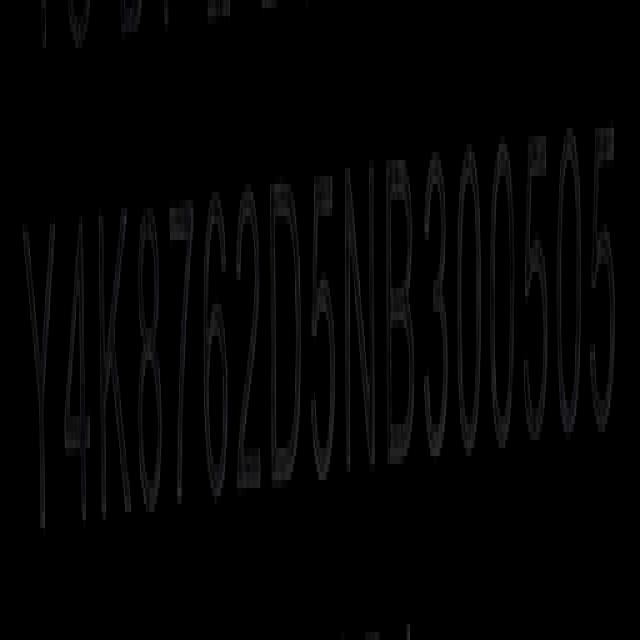0: (458, 137, 485, 459), (558, 124, 584, 448), (489, 132, 515, 452)
2: (236, 186, 263, 510)
3: (422, 143, 450, 466)
4: (62, 197, 94, 539)
5: (308, 158, 338, 493), (591, 103, 618, 442), (524, 121, 551, 450)
6: (204, 185, 232, 514)
7: (170, 188, 195, 521)
8: (138, 192, 166, 526)
B: (384, 144, 414, 476)
D: (270, 168, 303, 506)
K: (95, 202, 136, 530)
N: (342, 139, 378, 483)
Y: (22, 202, 60, 548)
